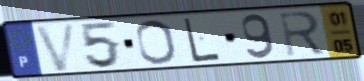5: (77, 20, 124, 70)
9: (239, 12, 277, 61)
L: (181, 16, 223, 64)
O: (134, 18, 180, 66)
R: (277, 9, 328, 59)
V: (32, 21, 80, 73)
